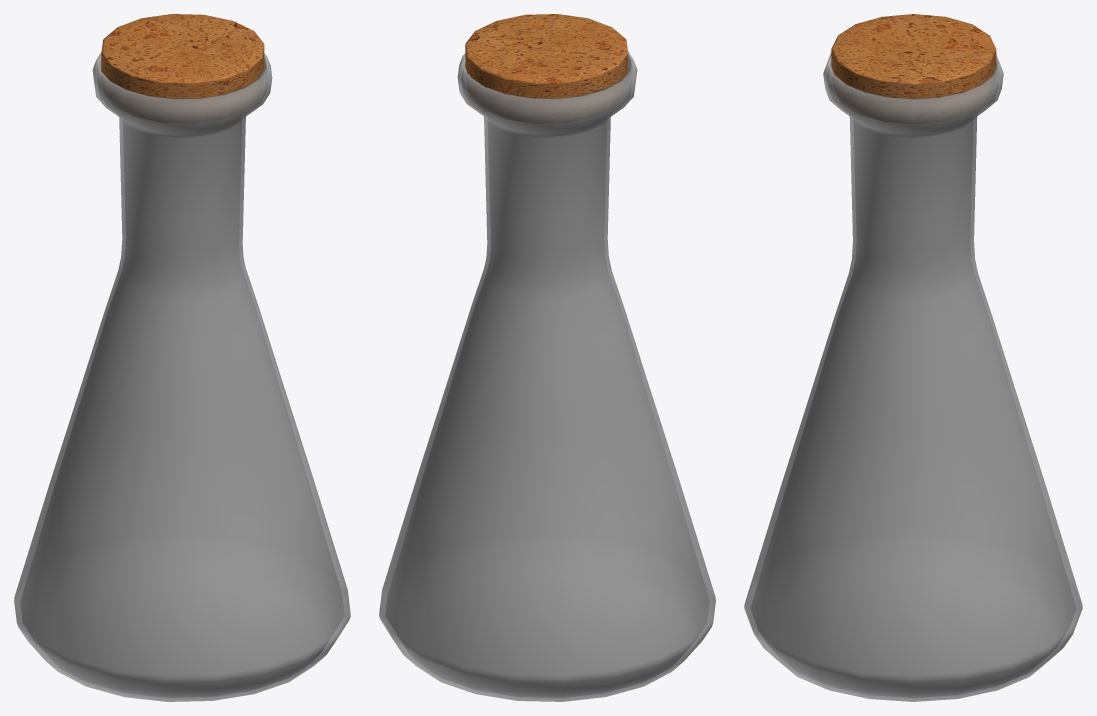
File: Erlenmeyer50.fbx
3 renders of one model, left to right at view 1: azimuth 30°, elevation 25°; view 2: azimuth 150°, elevation 25°; view 3: azimuth 270°, elevation 25°, orthographic.
Parts seen in each view (by area): view 1: polySurface1, Cap; view 2: polySurface1, Cap; view 3: polySurface1, Cap.
Part boxes in pixels (x1,y1,x2,y2): polySurface1: [14, 52, 350, 701]; Cap: [101, 14, 264, 122]; polySurface1: [379, 51, 715, 701]; Cap: [465, 14, 628, 122]; polySurface1: [744, 52, 1082, 701]; Cap: [831, 14, 996, 123].
Bounding box in the file's own units: 0.2027 × 0.3922 × 0.2027.
2 materials, 1 textured.
